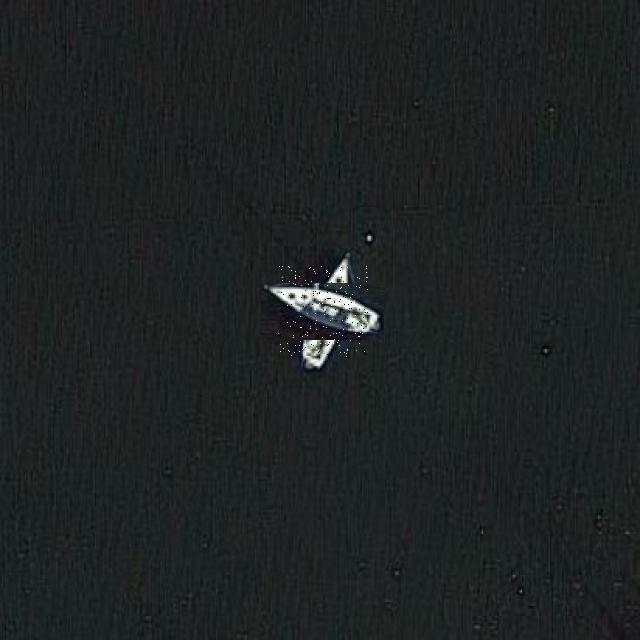boat: (278, 266, 368, 357)
